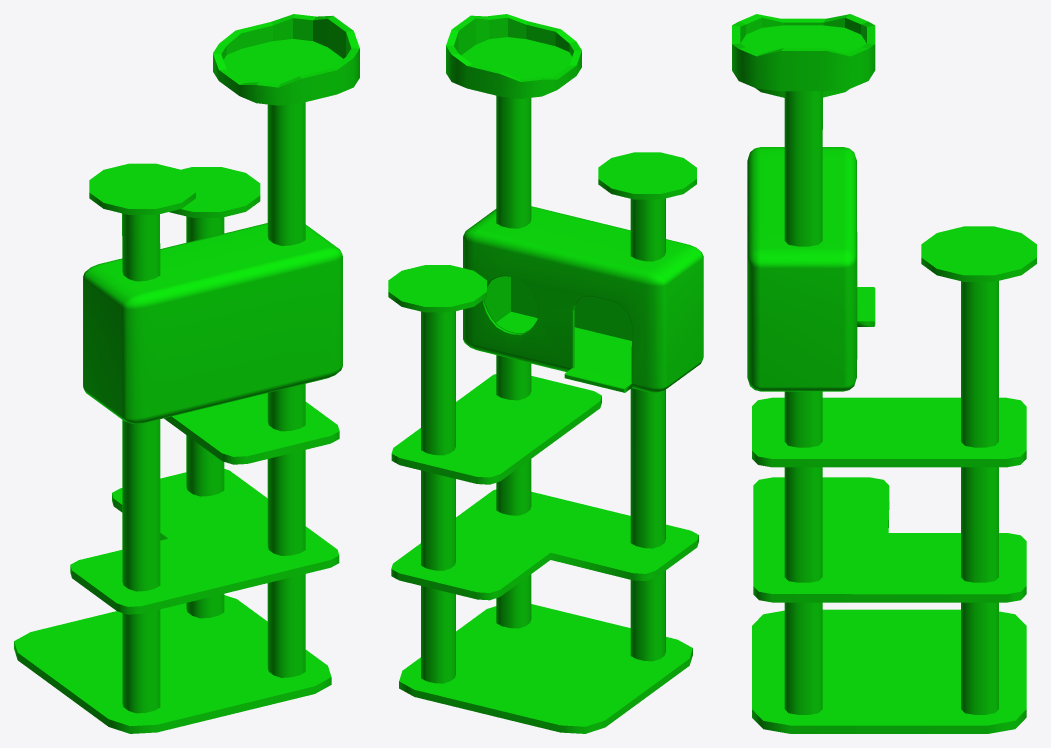
The model's file is TorreGatuna.fbx.
3 views of the same model, side by side, from view 1: azimuth 30°, elevation 25°; view 2: azimuth 150°, elevation 25°; view 3: azimuth 270°, elevation 25° (orthographic). The views are drawn at different scales.
Parts seen in each view (by area): view 1: pCylinder16; view 2: pCylinder16; view 3: pCylinder16.
Boxes of the visible parts, x1,y1,x2,y2 form: pCylinder16: (14,14,359,733); pCylinder16: (388,14,703,733); pCylinder16: (732,14,1036,733).
Size of the model in its own units: 1.02 by 2.51 by 0.9995.
